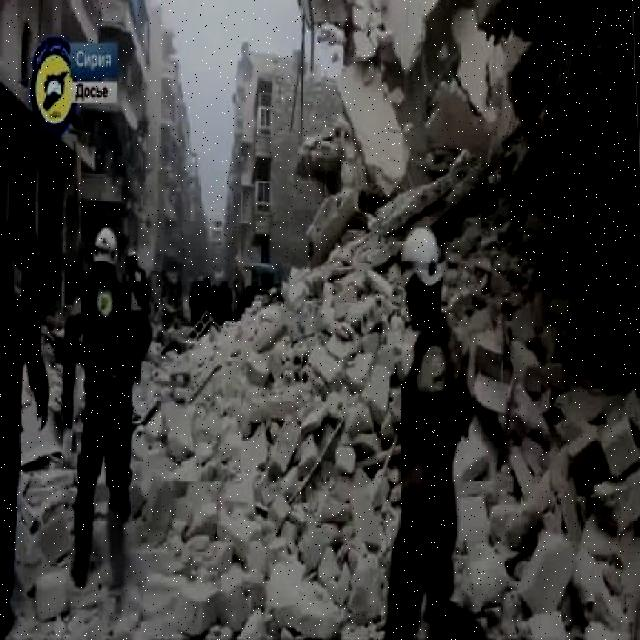Helmet: (394, 226, 446, 288), (91, 223, 120, 269)
